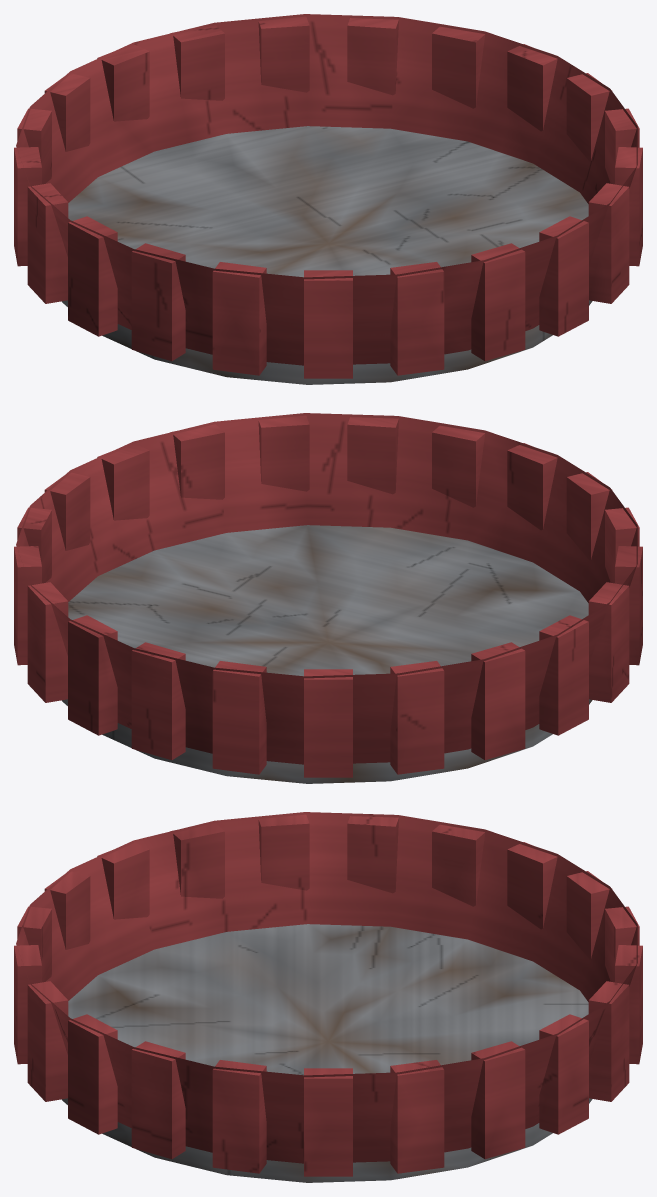
The model's file is bottle_cap.glb.
3 renders of one model, top to bottom at view 1: azimuth 30°, elevation 25°; view 2: azimuth 150°, elevation 25°; view 3: azimuth 270°, elevation 25°, orthographic.
Parts seen in each view (by area): view 1: bottle_cap; view 2: bottle_cap; view 3: bottle_cap.
Boxes of the visible parts, x1=… form: bottle_cap: x1=14, y1=14, x2=642, y2=384; bottle_cap: x1=14, y1=413, x2=642, y2=783; bottle_cap: x1=14, y1=812, x2=642, y2=1182.
Bounding box in the file's own units: 3.6 × 0.77 × 3.61.
Materials: 3 (3 with a texture image).
